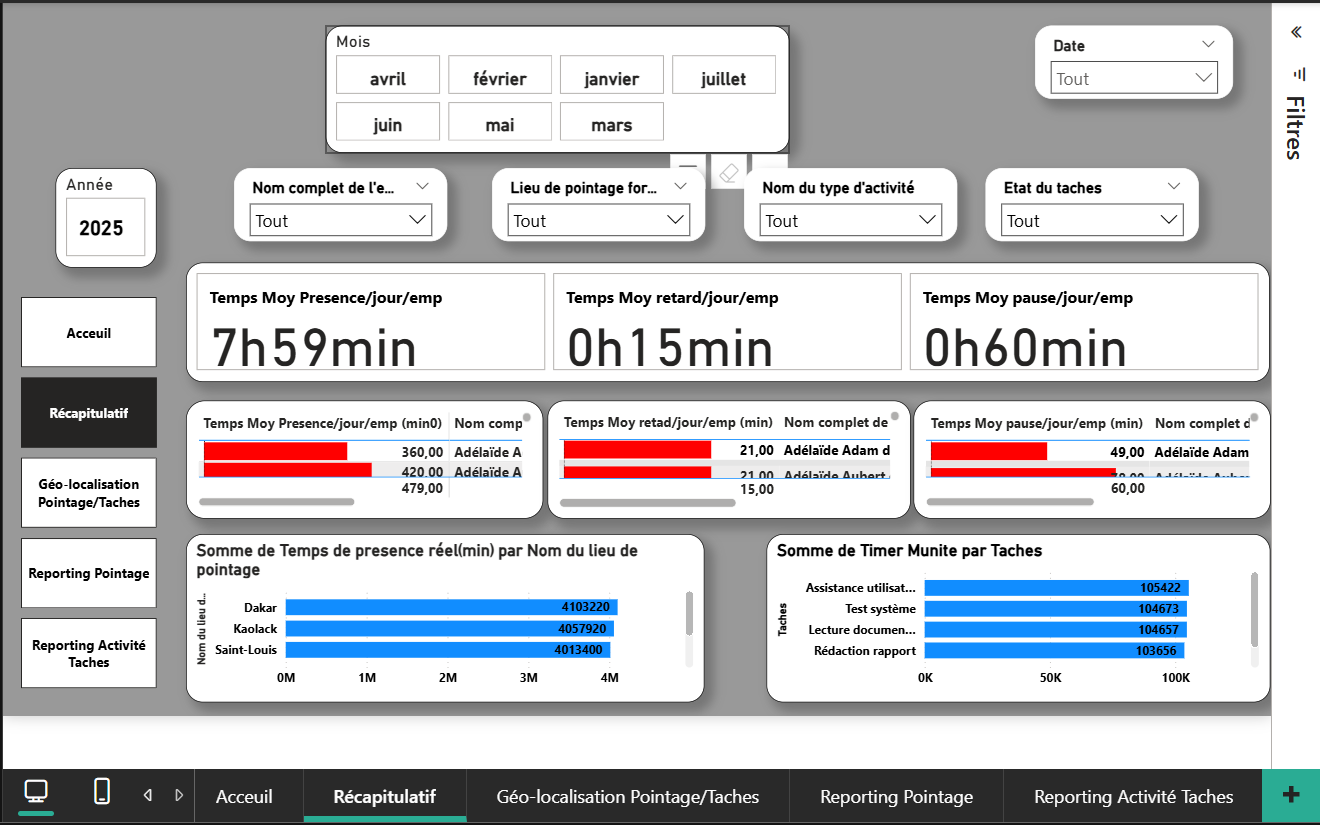

The page's visual inventory and layout, read from the dashboard file:
{"tool":"powerbi","page":{"name":"Récapitulatif","canvas":[1280,720],"ordinal":1},"visuals":[{"type":"advancedSlicerVisual","fields":{"Values":["TableDate.Mois"]},"box":[325,22.7,468.7,128.5],"z":0},{"type":"slicer","fields":{"Values":["TableDate.Date"]},"box":[1041.3,22.7,200.3,73.7],"z":1000},{"type":"advancedSlicerVisual","fields":{"Values":["TableDate.Année"]},"box":[52.7,166.2,102.3,100.7],"z":2000},{"type":"slicer","fields":{"Values":["Sheet1.Nom complet de l'employé"]},"box":[232.4,166.3,215.4,73.7],"z":3000},{"type":"slicer","fields":{"Values":["Sheet1.Lieu de pointage forcé?"]},"box":[493.2,166.3,215.4,73.7],"z":4000},{"type":"slicer","fields":{"Values":["Sheet1.Nom du type d'activité"]},"box":[748.4,166.3,215.4,73.7],"z":5000},{"type":"slicer","fields":{"Values":["Sheet1.Etat du taches"]},"box":[992.1,166.3,215.4,73.7],"z":6000},{"type":"cardVisual","fields":{"Data":["Mesures.Temps Moy Présence/Jour/Emp (h:min)","Mesures.Temps Moy retard/jour/emp (min)","Mesures.VTemps Moy pause/jour/emp (min)"]},"box":[185.2,262.7,1094.2,120.9],"z":7000},{"type":"tableEx","fields":{"Values":["Mesures.Temps Moy Presence/jour/emp (min0)","Sheet1.Nom complet de l'employé","Mesures.Temps Moy Presence/jour/emp"]},"box":[185.2,400.6,360.9,119.1],"z":8000},{"type":"tableEx","fields":{"Values":["Mesures.Temps Moy retad/jour/emp (min)","Sheet1.Nom complet de l'employé","Mesures.Temps Moy retard/jour/emp"]},"box":[549,400.6,366.6,119.1],"z":9000},{"type":"tableEx","fields":{"Values":["Mesures.Temps Moy pause/jour/emp (min)","Sheet1.Nom complet de l'employé","Mesures.Temps Moy pause/jour/emp"]},"box":[918.4,400.6,360.9,119.1],"z":10000},{"type":"clusteredBarChart","fields":{"Y":["Sum(Sheet1.Temps de presence réel(min))"],"Category":["Sheet1.Nom du lieu de pointage"]},"box":[185.2,536.7,523.5,170.1],"z":11000},{"type":"clusteredBarChart","fields":{"Category":["Sheet1 (2).Taches"],"Y":["Sum(Sheet1.Timer Munite)"]},"box":[771,536.7,508.4,170.1],"z":12000},{"type":"pageNavigator","box":[17.6,297.2,137.4,397.8],"z":13000}]}

Visuals, with their boxes on the page's 1280x720 design canvas (x1, y1, x2, y2). These are canvas units, not pixel positions in the 1320x825 screenshot, which may show the page scaled, cropped or inside an application window:
advancedSlicerVisual - TableDate.Mois: <bbox>325, 23, 794, 151</bbox>
slicer - TableDate.Date: <bbox>1041, 23, 1242, 96</bbox>
advancedSlicerVisual - TableDate.Année: <bbox>53, 166, 155, 267</bbox>
slicer - Sheet1.Nom complet de l'employé: <bbox>232, 166, 448, 240</bbox>
slicer - Sheet1.Lieu de pointage forcé?: <bbox>493, 166, 709, 240</bbox>
slicer - Sheet1.Nom du type d'activité: <bbox>748, 166, 964, 240</bbox>
slicer - Sheet1.Etat du taches: <bbox>992, 166, 1208, 240</bbox>
cardVisual - Mesures.Temps Moy Présence/Jour/Emp (h:min) x Mesures.Temps Moy retard/jour/emp (min): <bbox>185, 263, 1279, 384</bbox>
tableEx - Mesures.Temps Moy Presence/jour/emp (min0) x Sheet1.Nom complet de l'employé: <bbox>185, 401, 546, 520</bbox>
tableEx - Mesures.Temps Moy retad/jour/emp (min) x Sheet1.Nom complet de l'employé: <bbox>549, 401, 916, 520</bbox>
tableEx - Mesures.Temps Moy pause/jour/emp (min) x Sheet1.Nom complet de l'employé: <bbox>918, 401, 1279, 520</bbox>
clusteredBarChart - Sum(Sheet1.Temps de presence réel(min)) x Sheet1.Nom du lieu de pointage: <bbox>185, 537, 709, 707</bbox>
clusteredBarChart - Sheet1 (2).Taches x Sum(Sheet1.Timer Munite): <bbox>771, 537, 1279, 707</bbox>
pageNavigator: <bbox>18, 297, 155, 695</bbox>
